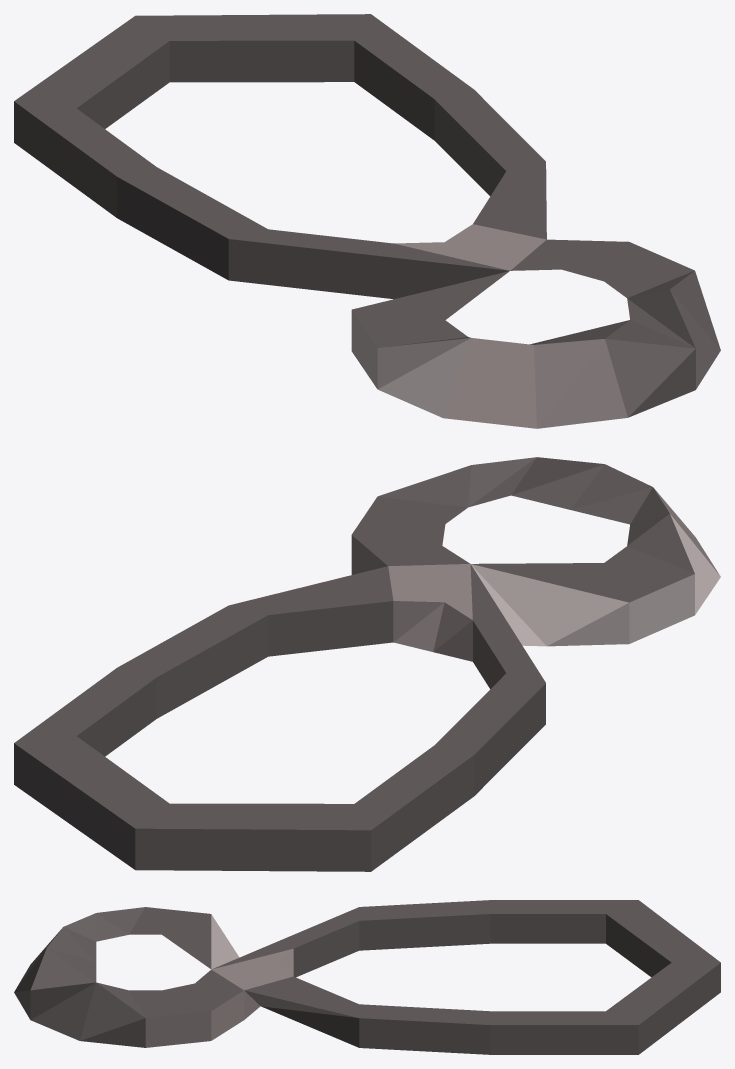
File: drakan-s-medallion.gltf
3 views of the same model, one above another, from view 1: azimuth 30°, elevation 25°; view 2: azimuth 150°, elevation 25°; view 3: azimuth 270°, elevation 25° (orthographic). The views are drawn at different scales.
Bounding box in the file's own units: 18 × 3 × 43.
1 material, 1 textured.
